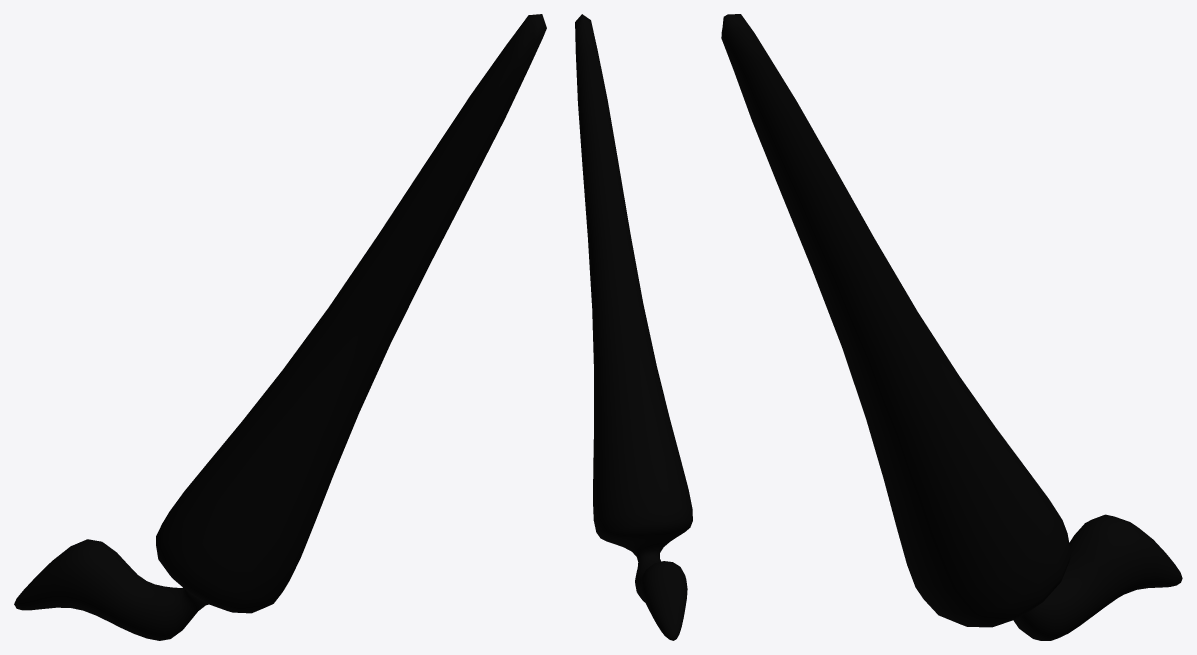
The model's file is back Leg 2.fbx.
The picture shows the model from 3 angles, left to right: view 1: azimuth 30°, elevation 25°; view 2: azimuth 150°, elevation 25°; view 3: azimuth 270°, elevation 25°; orthographic projection. The views are drawn at different scales.
Parts seen in each view (by area): view 1: Cube.011; view 2: Cube.011; view 3: Cube.011.
Boxes of the visible parts, x1=… form: Cube.011: x1=14, y1=14, x2=546, y2=640; Cube.011: x1=575, y1=14, x2=692, y2=640; Cube.011: x1=721, y1=14, x2=1182, y2=640.
Size of the model in its own units: 28.14 by 53.44 by 29.48.
